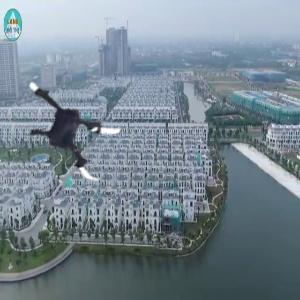drone: (14, 64, 140, 190)
